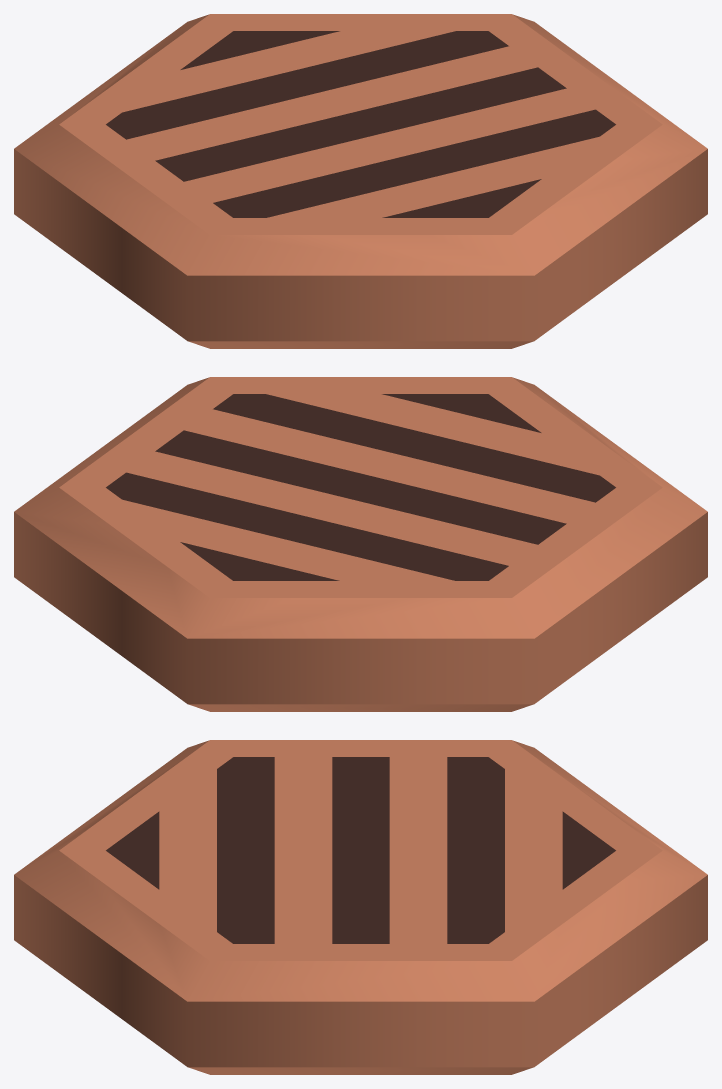
File: meatPatty.GLB
The picture shows the model from 3 angles, top to bottom: view 1: azimuth 30°, elevation 25°; view 2: azimuth 150°, elevation 25°; view 3: azimuth 270°, elevation 25°; orthographic projection.
Visible parts, largest first — view 1: meatPatty; view 2: meatPatty; view 3: meatPatty.
Part boxes in pixels (x1,y1,x2,y2): meatPatty: (14, 14, 707, 348); meatPatty: (14, 377, 707, 711); meatPatty: (14, 740, 707, 1074).
Size of the model in its own units: 0.2988 by 0.0624 by 0.345.
